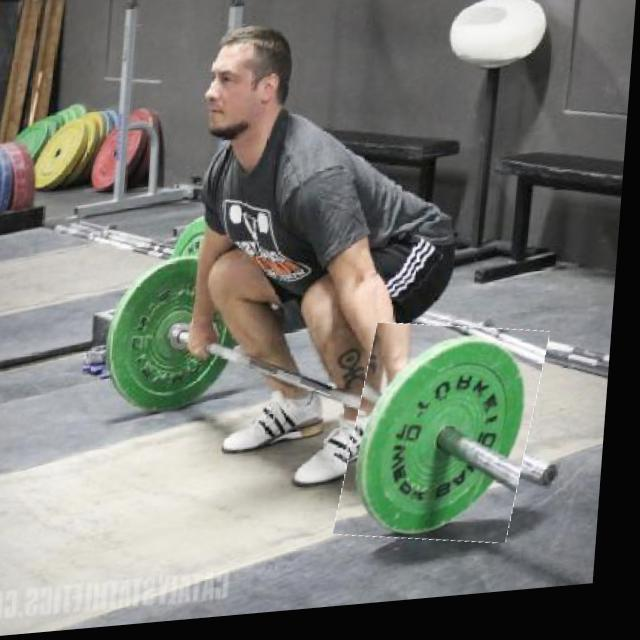barbell: (348, 325, 550, 560)
